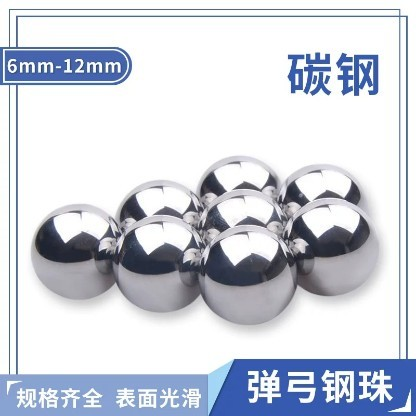ironball: (197, 224, 297, 325), (282, 197, 379, 296), (111, 214, 205, 312), (30, 202, 121, 300), (197, 188, 287, 245), (277, 163, 363, 218), (114, 179, 203, 232), (196, 154, 279, 208)
